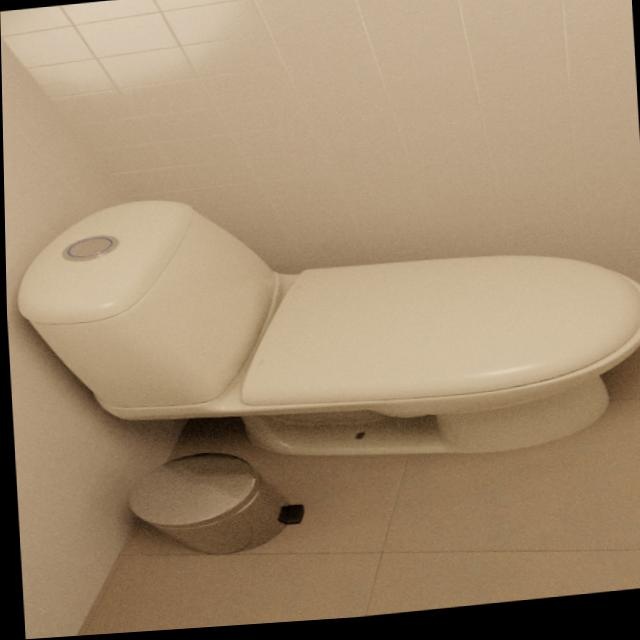toilet: (10, 156, 640, 501)
